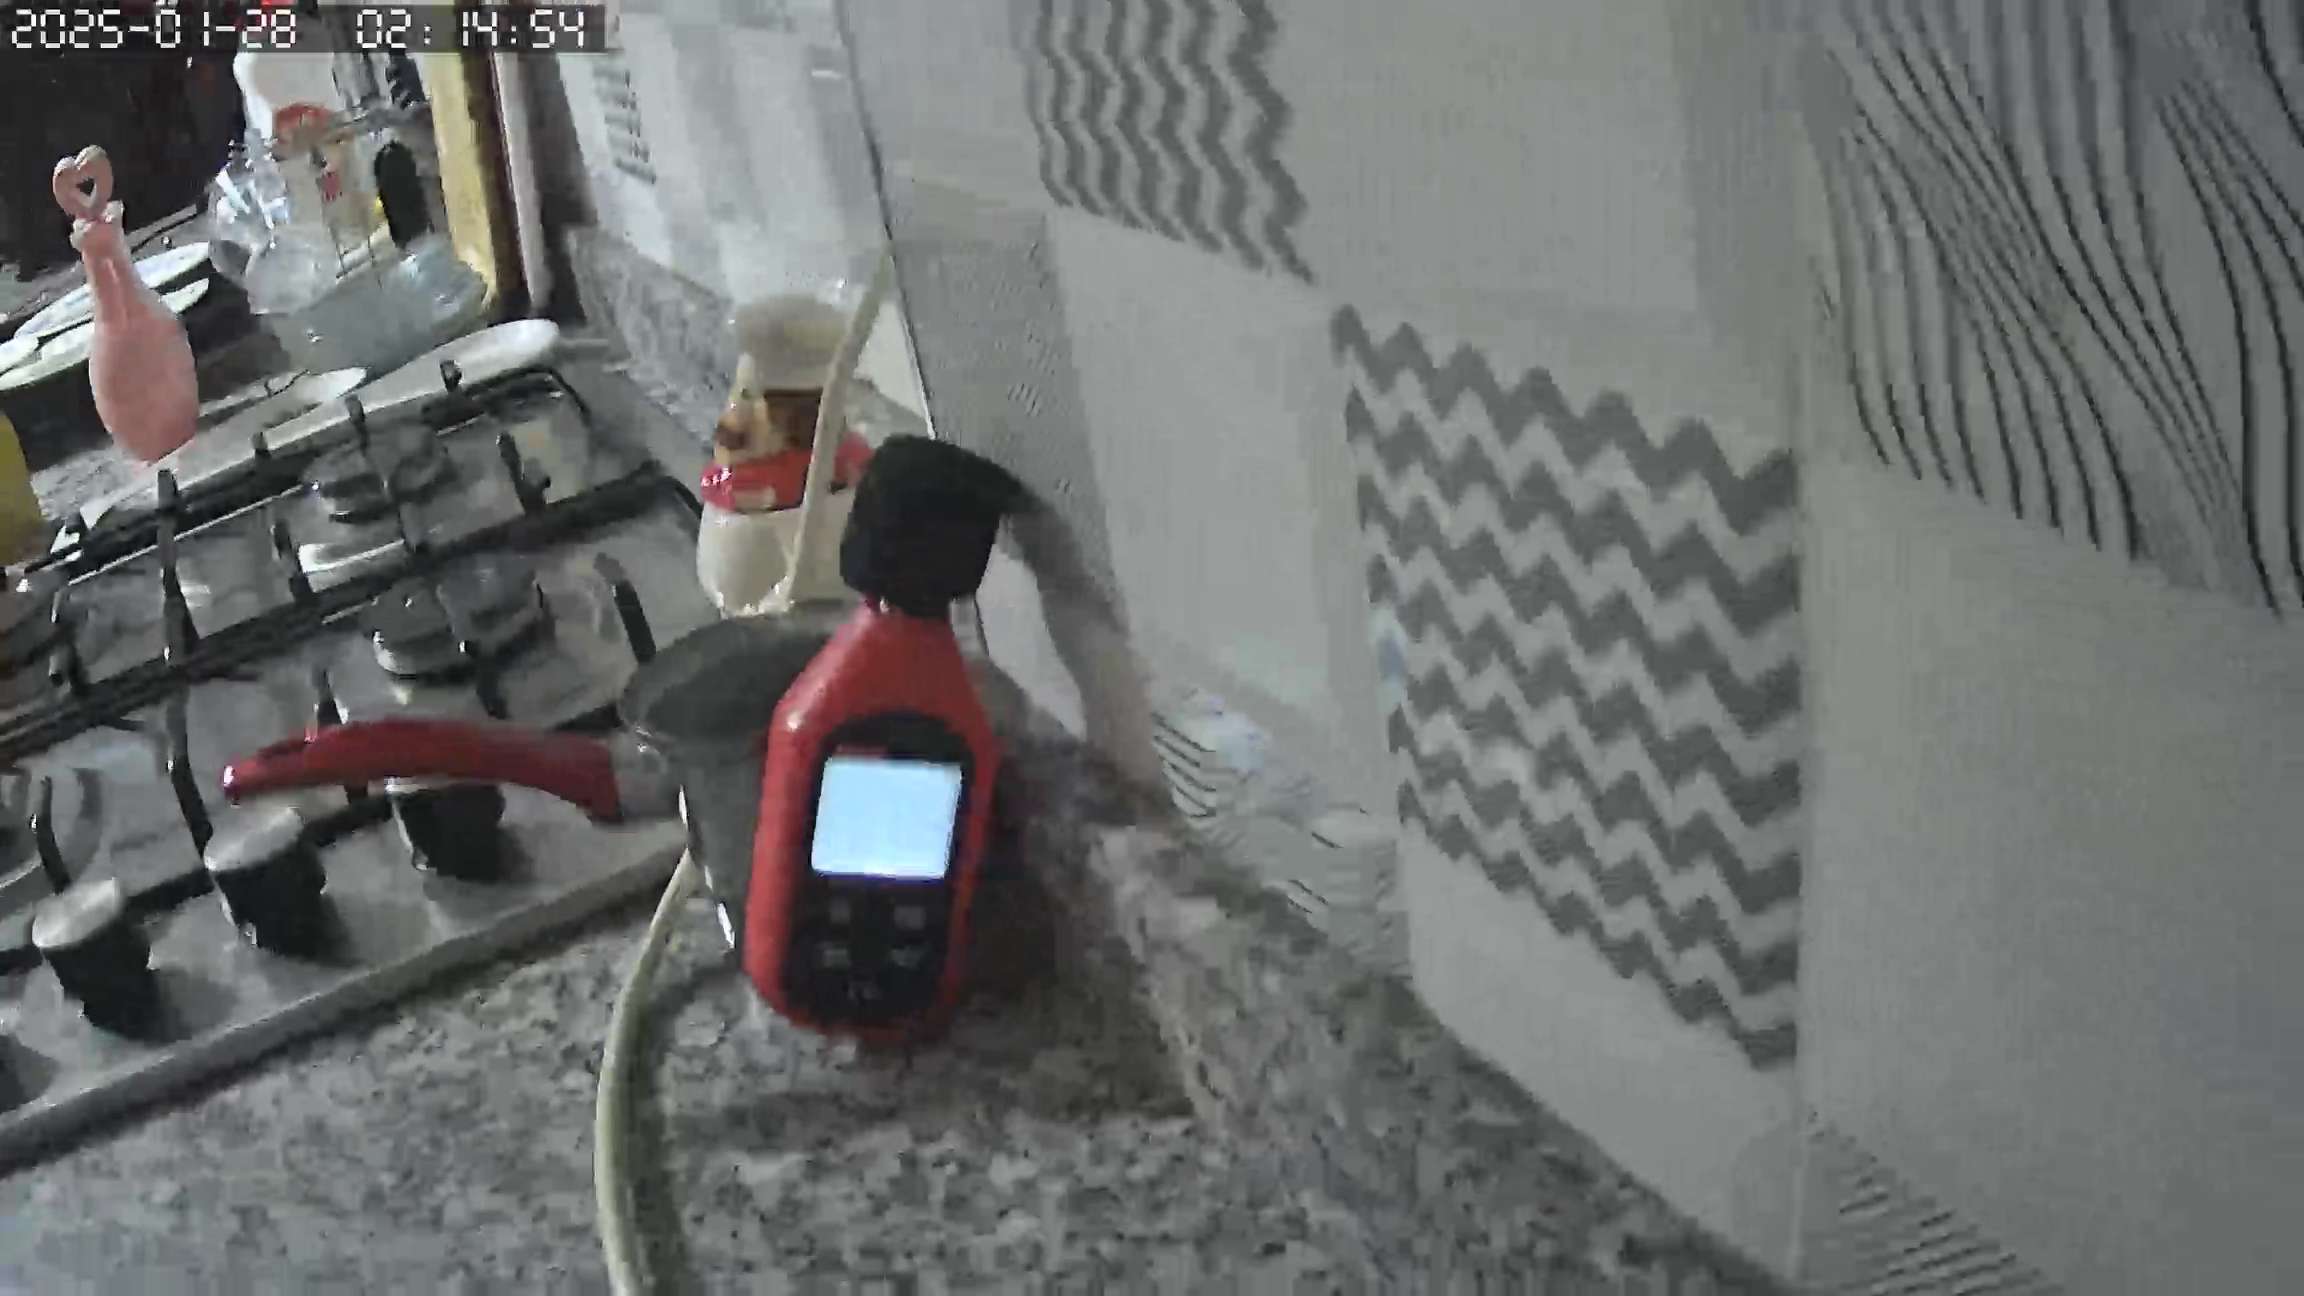screen: (809, 755, 968, 885)
